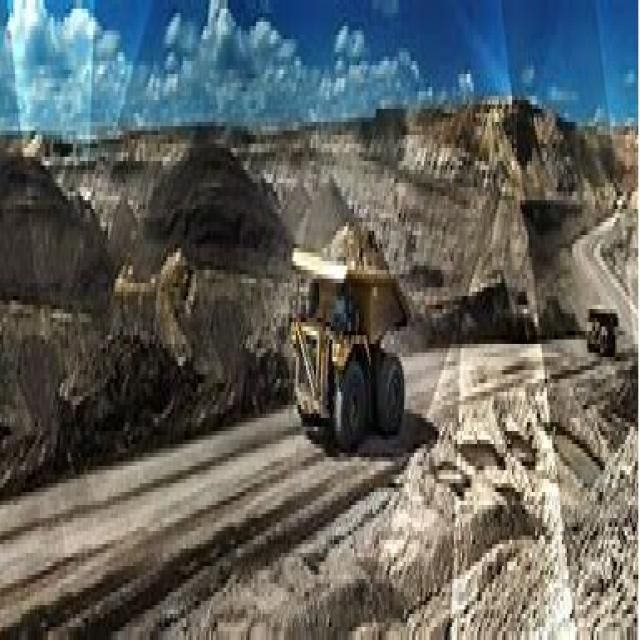dump_truck: (282, 201, 443, 448)
